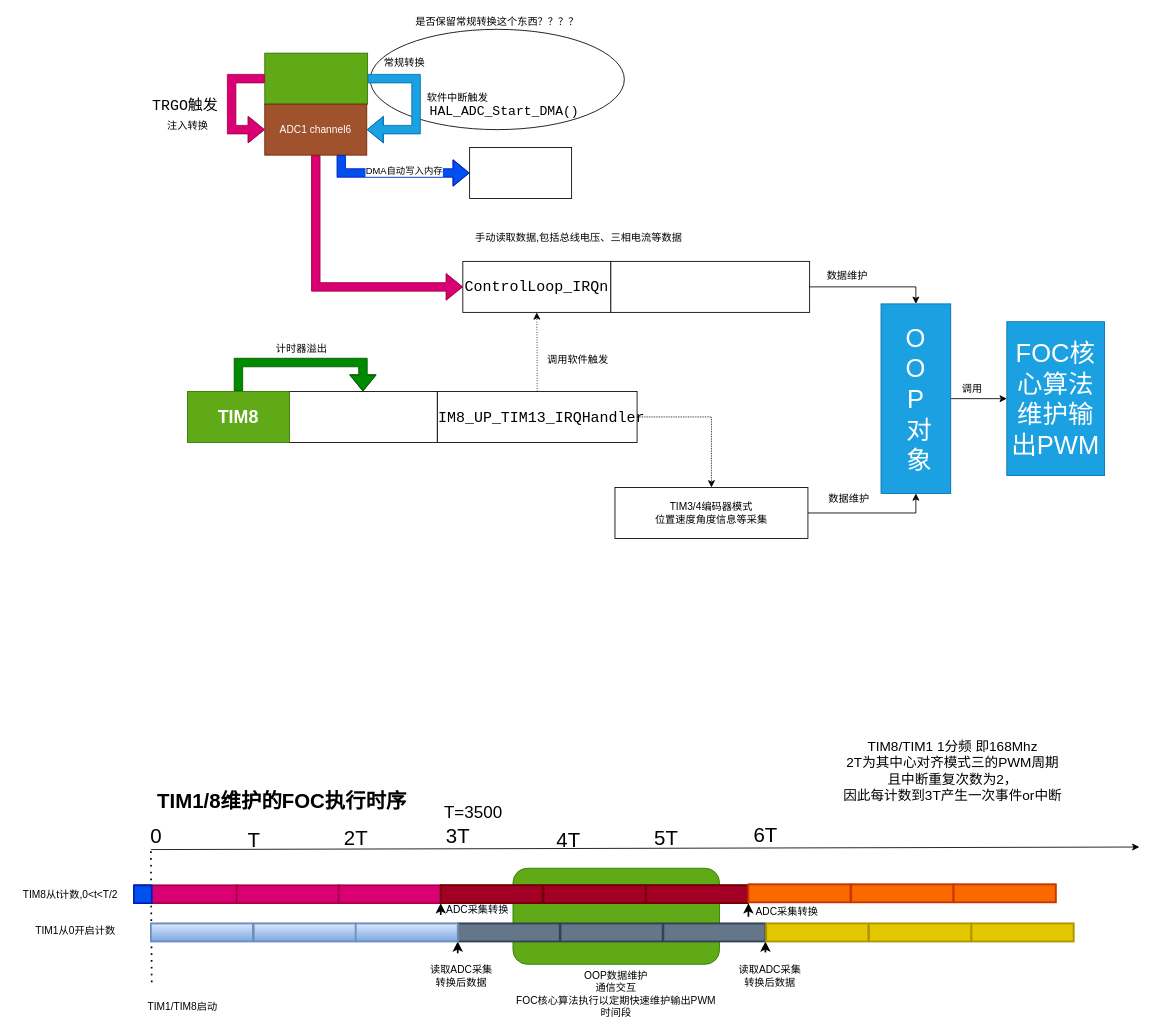
Image size: 1161x1034. Some labels were removed from this diagram. Here are the shapes that lost their labels. From the top down, the centre of each, then its label:
At point (316, 78): "TIM1".
At point (520, 172): "DMA2 stream0".
At point (710, 286): "ControlLoop_IRQHandler".
At point (362, 416): "TIM8_UP_TIM13_IRQn".
